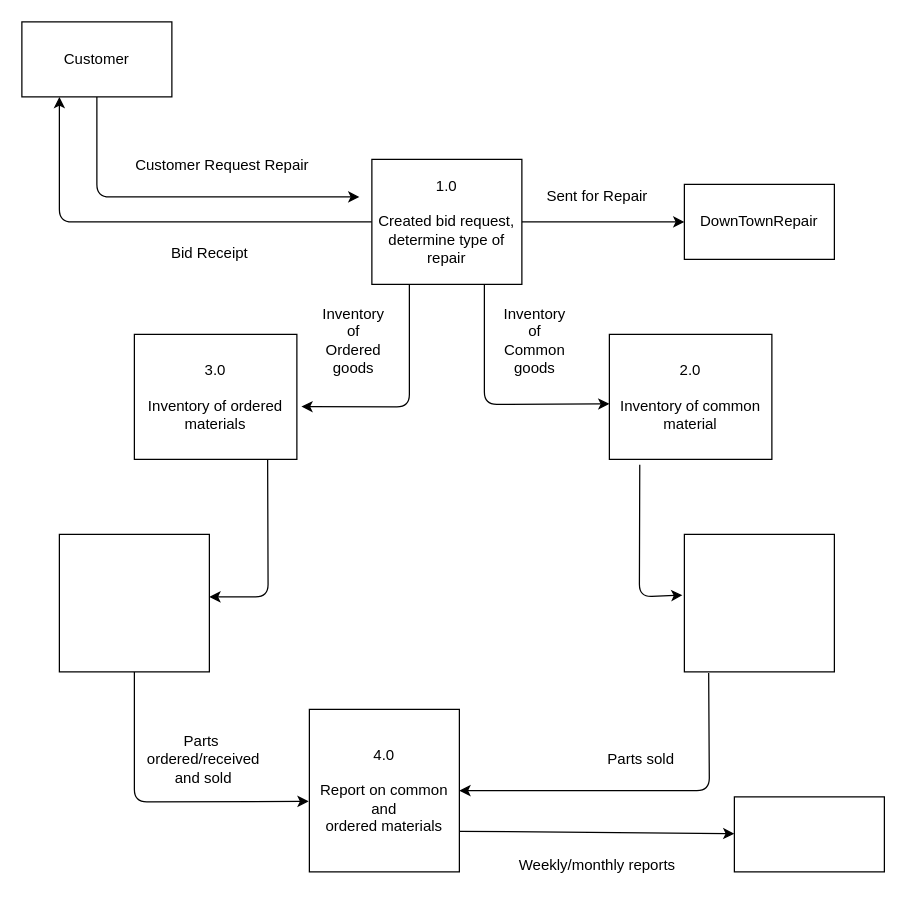
This 906x906 diagram has some shape labels left out. The shapes that lost their labels are listed below. From the top down, each one's centre as x and y in pixels, then its label:
At (x=133, y=602): "D1 Ordered Material Inventory File".
At (x=758, y=602): "D1 Common Material Inventory File".
At (x=808, y=834): "Tim".
